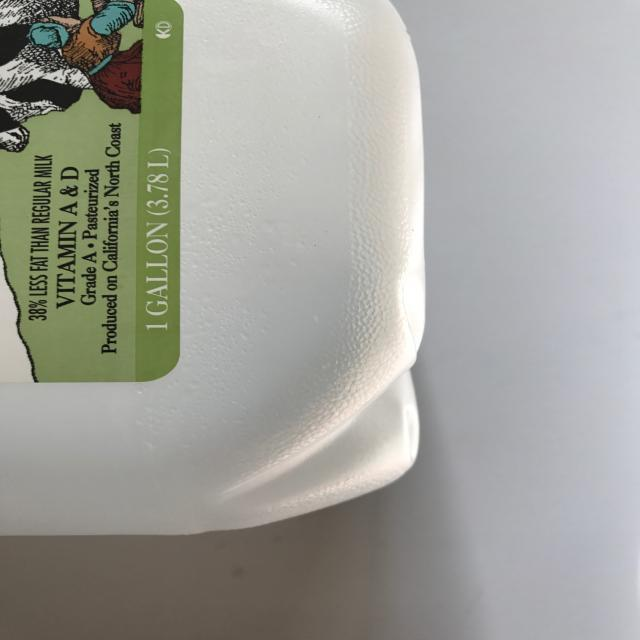plastic: (0, 0, 434, 545)
